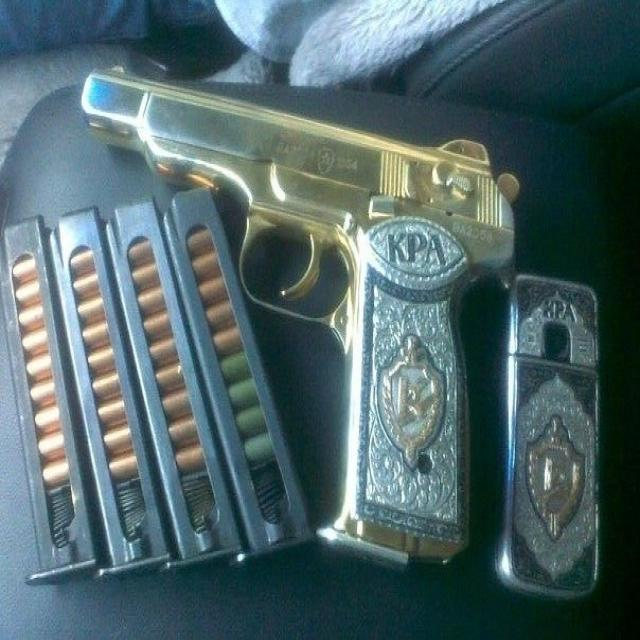pistol: (81, 66, 519, 575)
